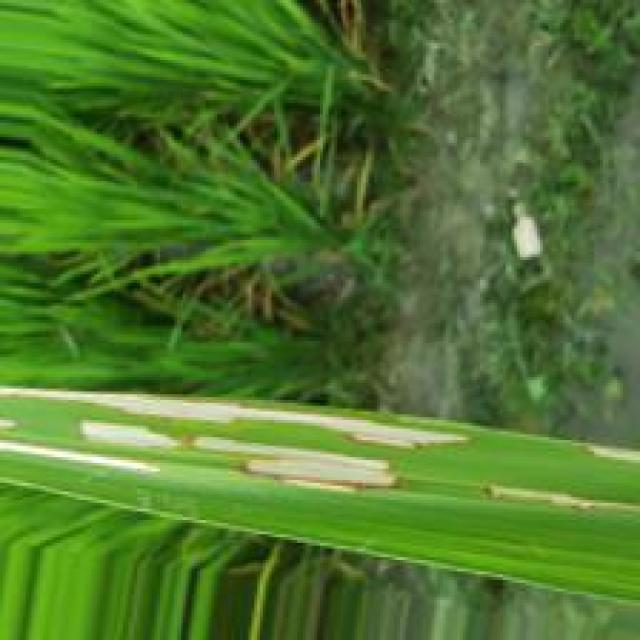Rice_Hispa: (0, 392, 466, 451), (76, 420, 408, 496)
